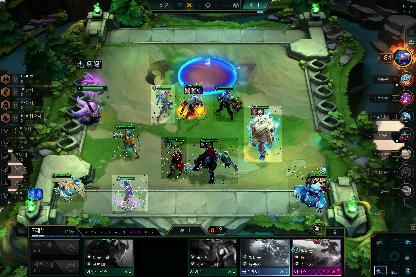2_diana: (161, 137, 187, 179)
2_leesin: (151, 85, 175, 123)
2_nunu: (288, 166, 330, 212)
2_olaf: (175, 82, 209, 122)
2_rengar: (188, 138, 238, 184)
2_seraphine: (51, 172, 87, 202)
2_sylas: (213, 84, 243, 122)
2_varus: (112, 175, 148, 211)
2_volibear: (244, 106, 282, 162)
2_zeri: (112, 124, 140, 160)
